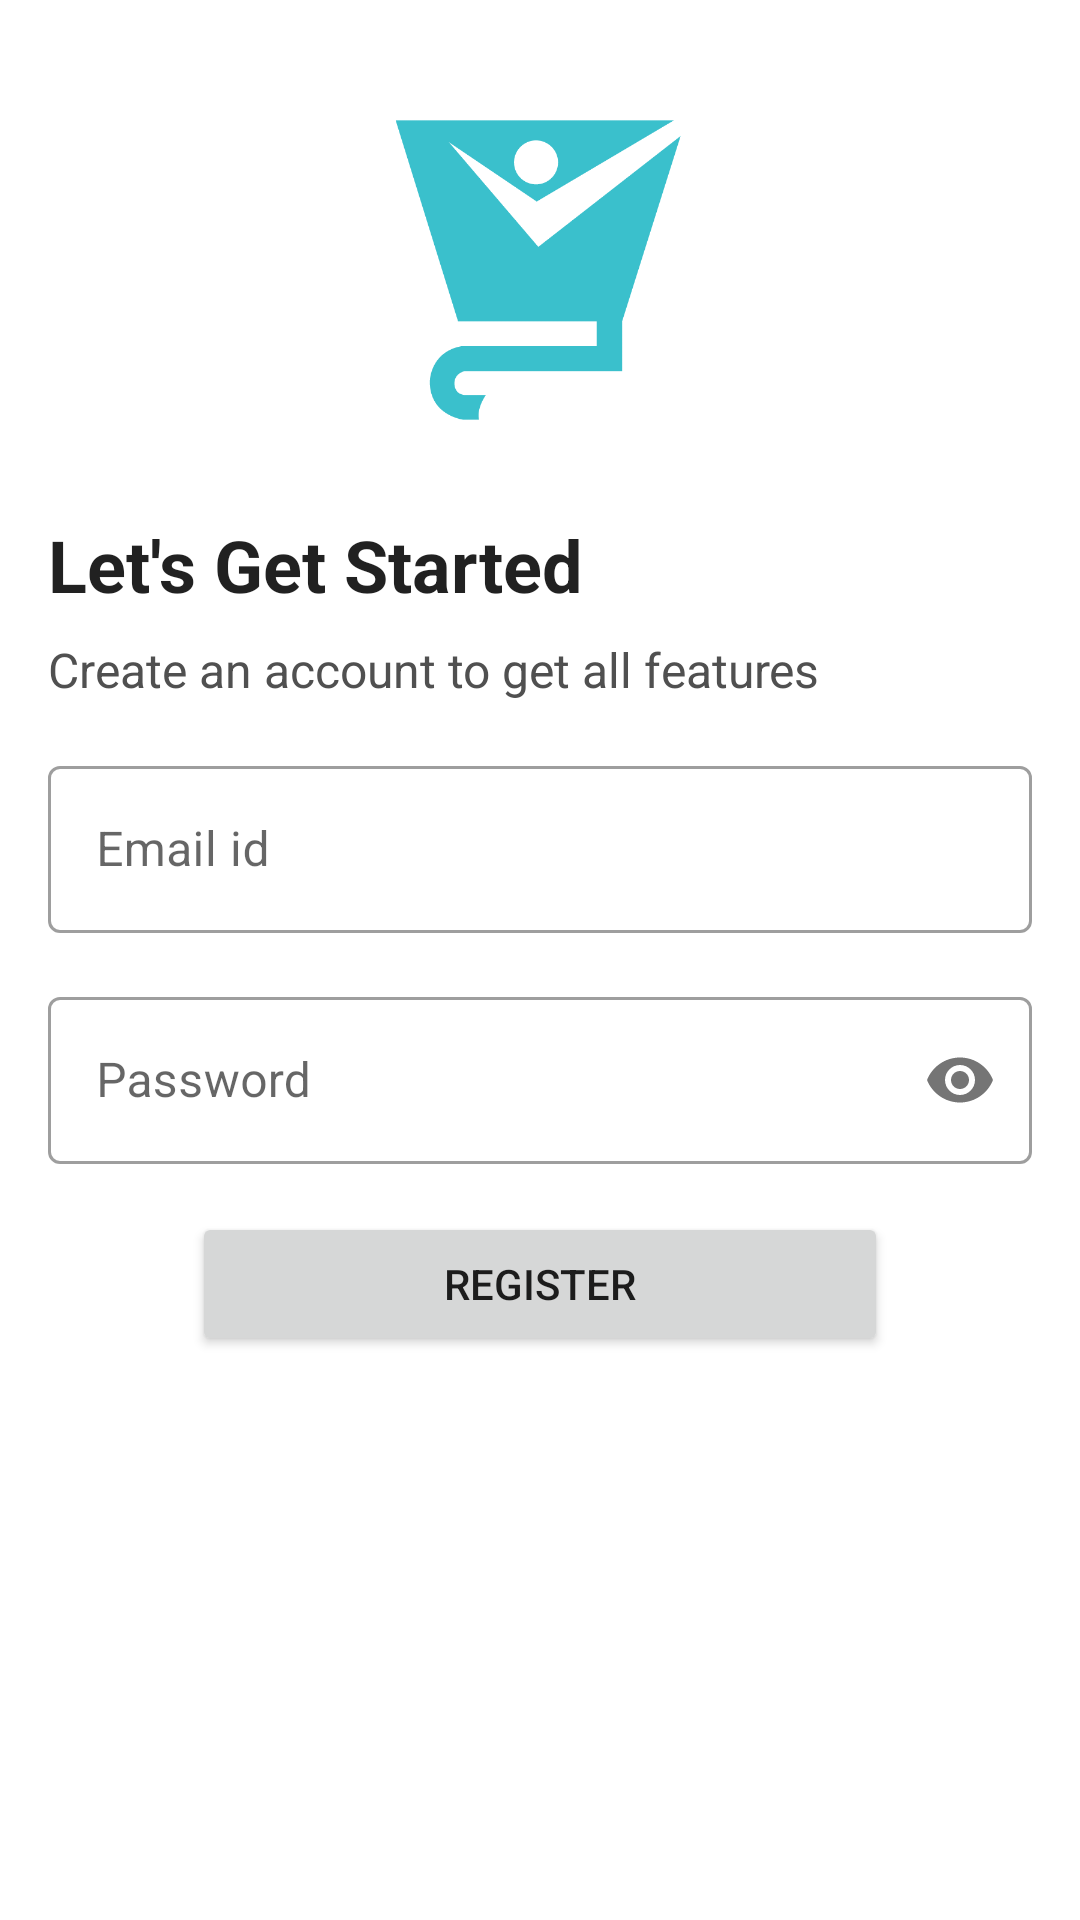

Icon click points for this 1080px×1920px phone screenshot, format point (x, y):
app: point (538, 270)
